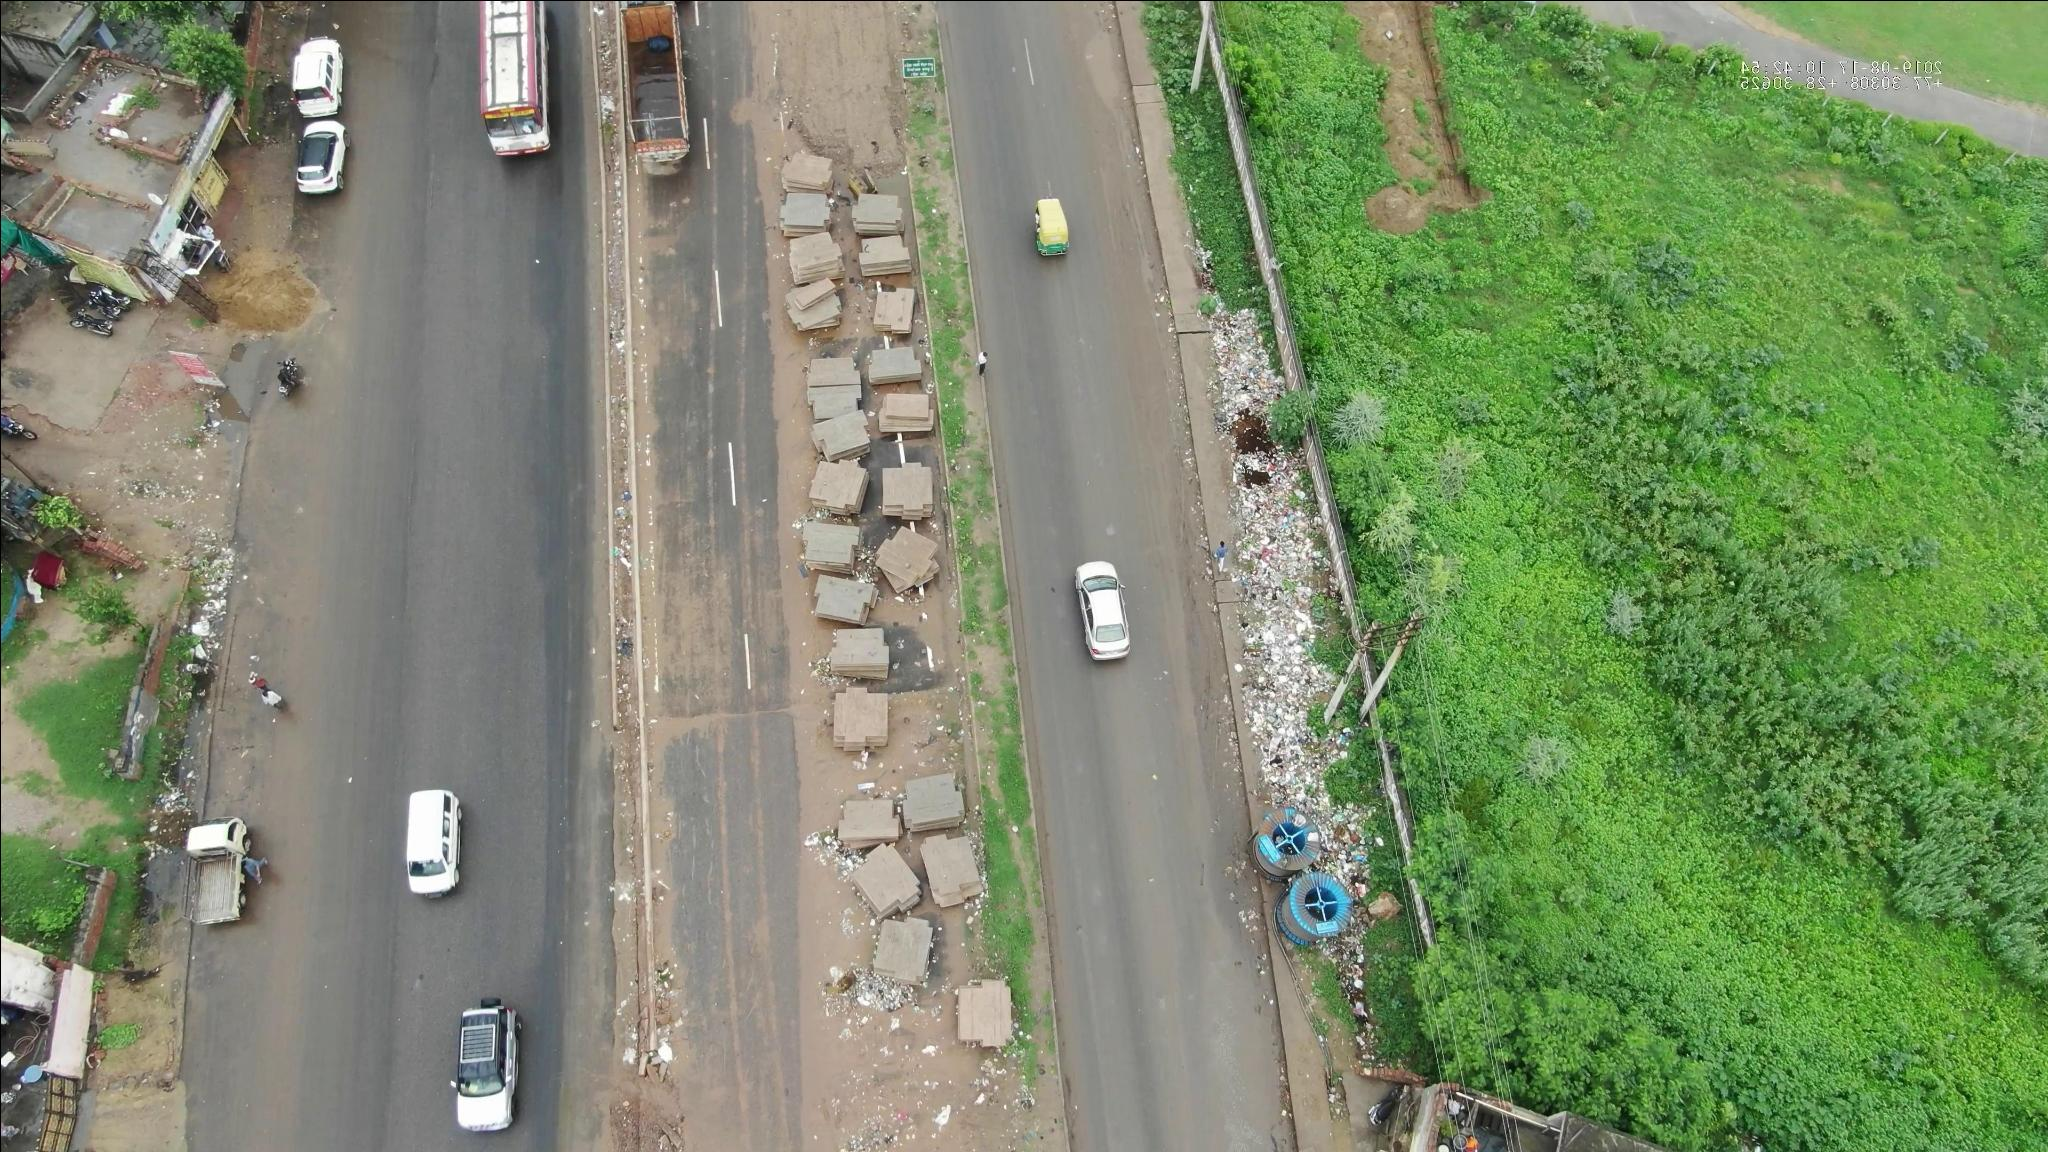Muddy_road: (232, 228, 321, 340)
Road_side_garbage: (1243, 513, 1340, 793), (1218, 286, 1303, 499)
